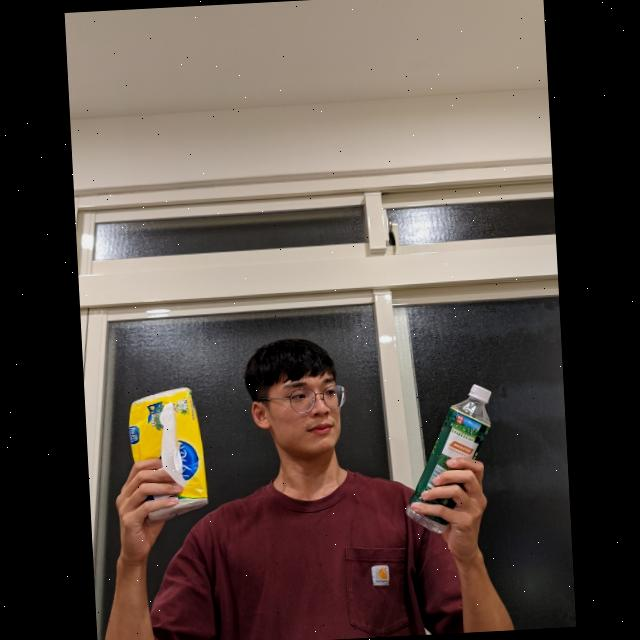trash: (395, 381, 500, 538)
